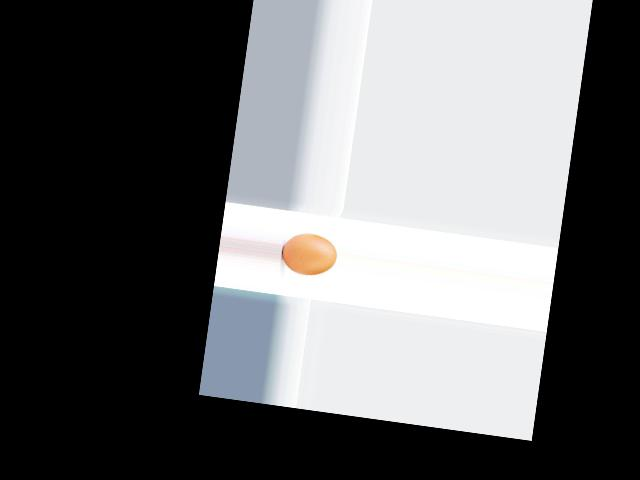egg: (279, 230, 338, 279)
